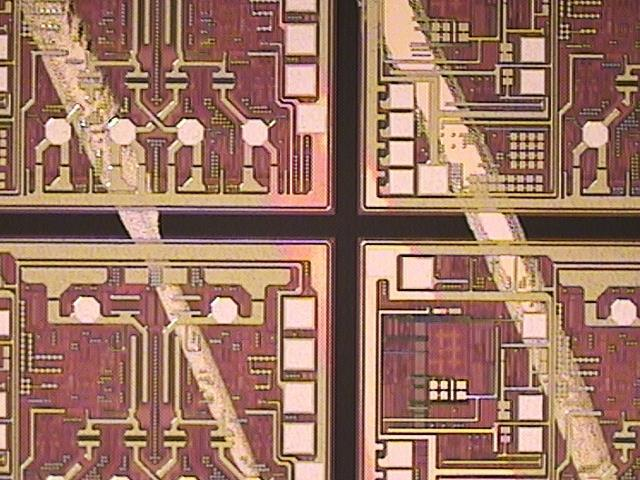COATING BAD: (8, 1, 628, 480)
